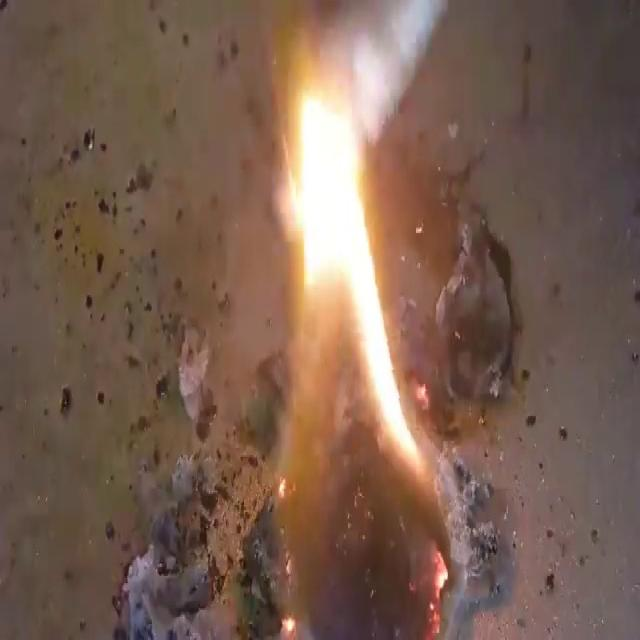Fire: (274, 76, 455, 636)
